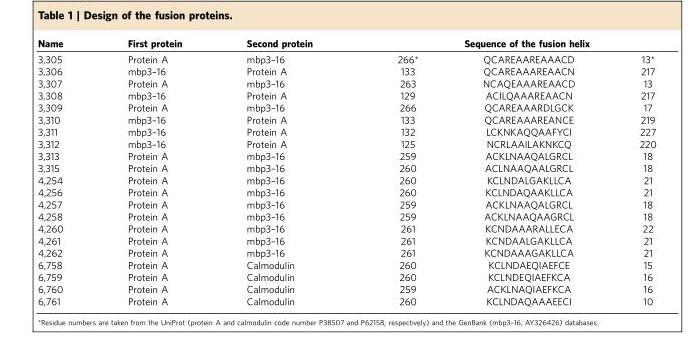table: (36, 37, 655, 306)
table column: (449, 37, 606, 306), (213, 37, 354, 306), (94, 37, 213, 306), (354, 37, 449, 306), (36, 37, 94, 306), (606, 37, 655, 306)
table column header: (36, 37, 655, 65)
table row: (36, 37, 655, 51), (36, 51, 655, 65), (36, 173, 655, 186), (36, 65, 655, 77), (36, 77, 655, 89), (36, 89, 655, 101), (36, 101, 655, 113), (36, 113, 655, 125), (36, 125, 655, 137), (36, 137, 655, 149), (36, 149, 655, 161), (36, 161, 655, 173), (36, 186, 655, 198), (36, 198, 655, 210), (36, 210, 655, 222), (36, 222, 655, 234), (36, 234, 655, 246), (36, 246, 655, 258), (36, 258, 655, 270), (36, 270, 655, 282), (36, 282, 655, 294), (36, 294, 655, 306)
table spanning cell: (354, 37, 655, 51), (213, 37, 354, 65), (94, 37, 213, 65), (36, 37, 94, 65)
